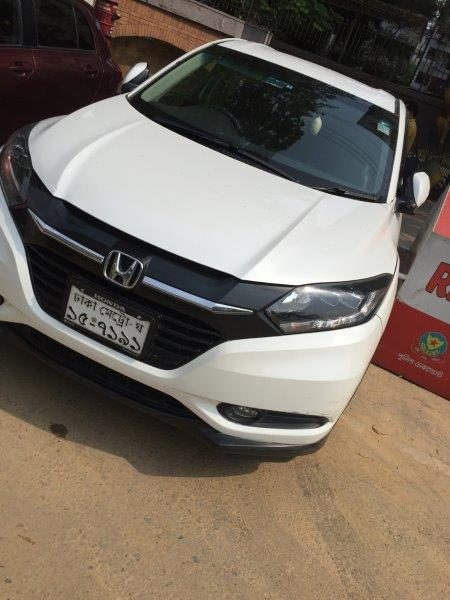suv: (1, 34, 430, 461)
